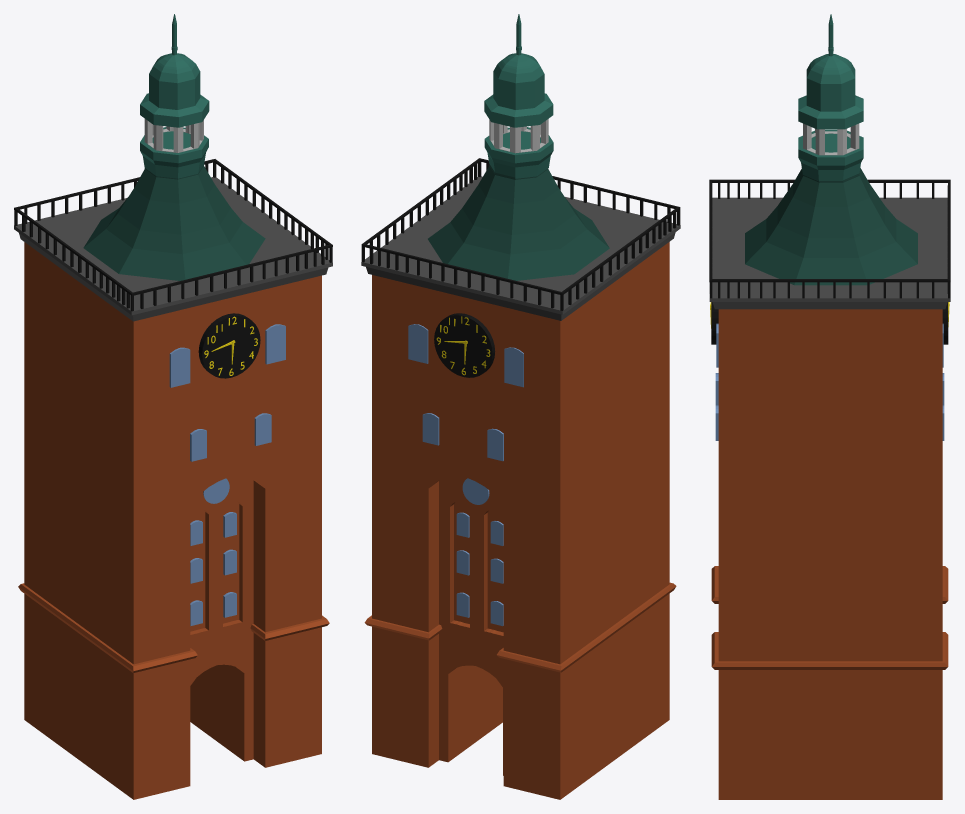
The model's file is brama.fbx.
3 renders of one model, left to right at view 1: azimuth 30°, elevation 25°; view 2: azimuth 150°, elevation 25°; view 3: azimuth 270°, elevation 25°, orthographic. The views are drawn at different scales.
Visible parts, largest first — view 1: Cube, Cube.006, Cube.001, Cube.058, Cube.007, Cylinder.001, Cube.008, Cube.002, Cube.003, Cube.018, Cube.085, Cube.017; view 2: Cube, Cube.006, Cube.001, Cube.058, Cube.007, Cylinder.001, Cube.088, Cube.008, Cube.003, Cube.015, Cube.085, Cube.016; view 3: Cube, Cube.006, Cube.001, Cube.007, Cube.058, Cube.008, Cube.003, Cube.085, Cylinder.001.
Boxes of the visible parts, x1,y1,x2,y2 form: Cube: [24, 242, 321, 799]; Cube.006: [83, 165, 265, 280]; Cube.001: [14, 177, 332, 321]; Cube.058: [14, 159, 332, 311]; Cube.007: [140, 14, 209, 127]; Cylinder.001: [198, 313, 260, 378]; Cube.008: [18, 583, 329, 673]; Cube.002: [190, 478, 236, 625]; Cube.003: [140, 127, 208, 178]; Cube.018: [169, 324, 285, 387]; Cube.085: [144, 119, 203, 152]; Cube.017: [190, 413, 271, 461]; Cube: [372, 242, 669, 799]; Cube.006: [428, 164, 609, 280]; Cube.001: [361, 176, 680, 320]; Cube.058: [361, 158, 680, 310]; Cube.007: [484, 14, 553, 127]; Cylinder.001: [434, 313, 495, 377]; Cube.088: [456, 478, 503, 626]; Cube.008: [364, 582, 676, 672]; Cube.003: [484, 127, 553, 178]; Cube.015: [408, 324, 523, 387]; Cube.085: [489, 119, 548, 153]; Cube.016: [422, 413, 503, 461]; Cube: [718, 309, 942, 799]; Cube.006: [745, 168, 917, 285]; Cube.001: [709, 197, 950, 309]; Cube.007: [798, 14, 863, 129]; Cube.058: [709, 179, 950, 298]; Cube.008: [711, 566, 948, 669]; Cube.003: [798, 129, 863, 181]; Cube.085: [803, 123, 859, 155]; Cylinder.001: [711, 302, 948, 344].
Size of the model in its own units: 537 by 1842 by 545.
Materials: 43 (43 with a texture image).
